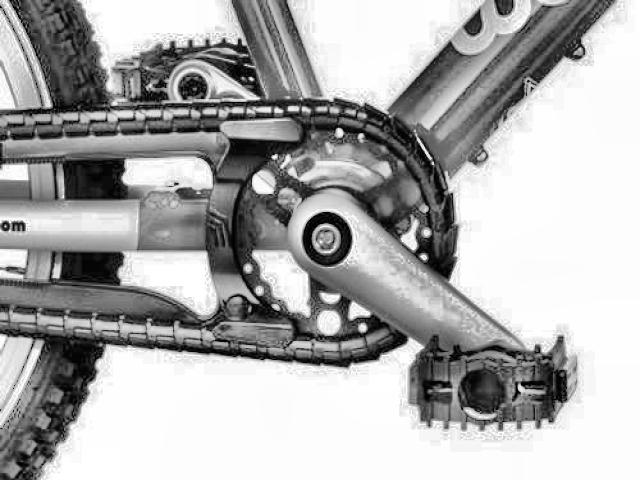cranks_set: (209, 103, 538, 377)
pedal: (400, 335, 582, 433), (108, 37, 280, 110)
